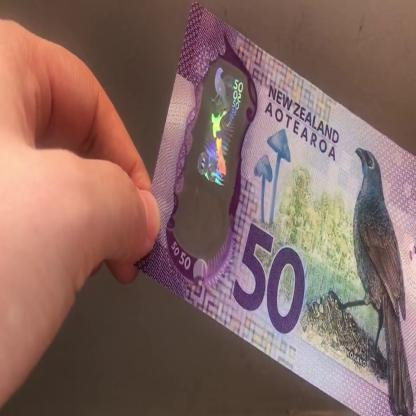50B: (197, 63, 246, 247)
